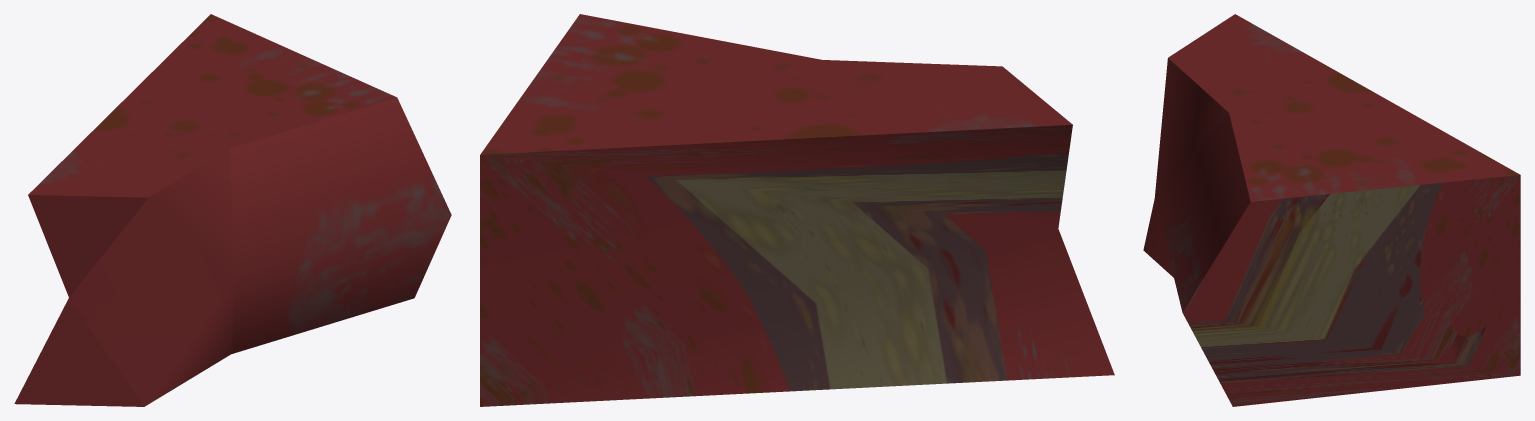
File: ishi_03_07_4.fbx
The picture shows the model from 3 angles, left to right: view 1: azimuth 30°, elevation 25°; view 2: azimuth 150°, elevation 25°; view 3: azimuth 270°, elevation 25°; orthographic projection. The views are drawn at different scales.
Parts seen in each view (by area): view 1: polySurface42; view 2: polySurface42; view 3: polySurface42.
Boxes of the visible parts, x1,y1,x2,y2 form: polySurface42: (14,14,451,406); polySurface42: (480,14,1114,406); polySurface42: (1143,14,1520,406).
Bounding box in the file's own units: 11.52 × 5.14 × 8.75.
1 material, 1 textured.
